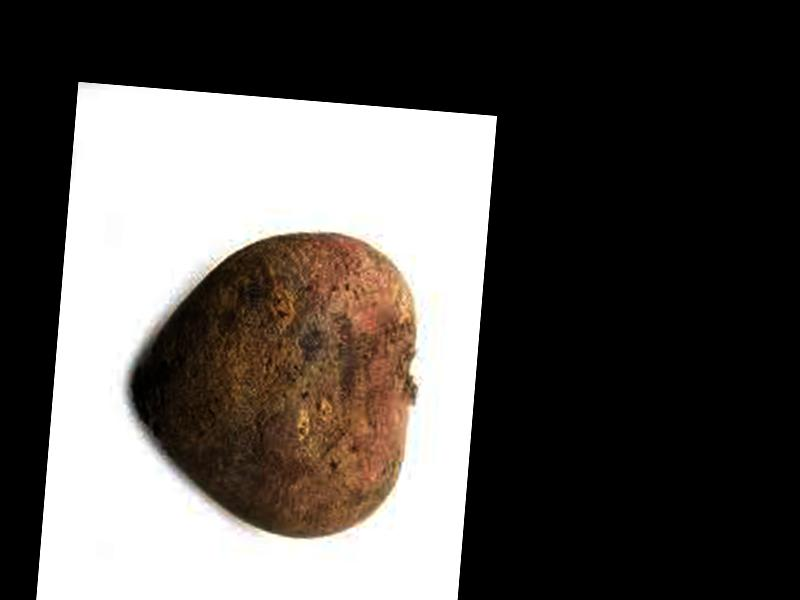Beet: (122, 217, 425, 548)
